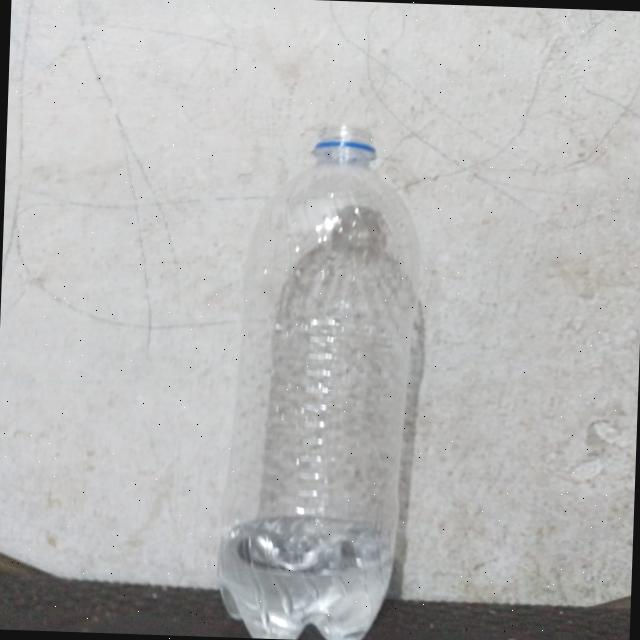bottle: (198, 101, 444, 640)
